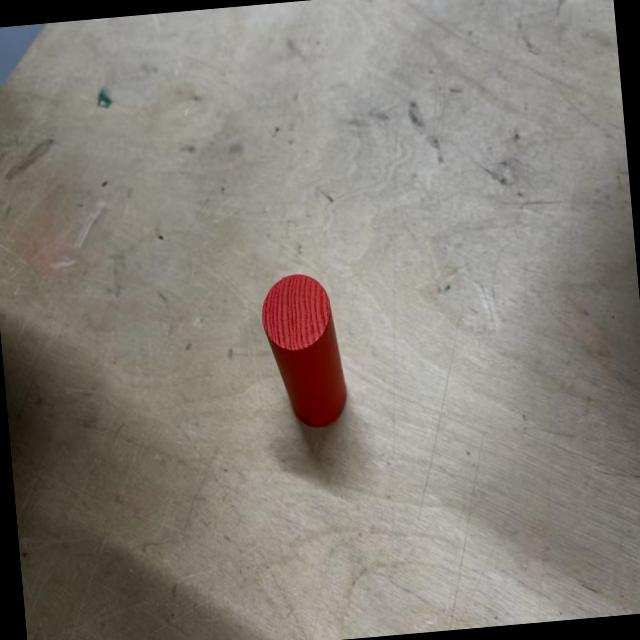red_cylinder: (258, 270, 350, 431)
